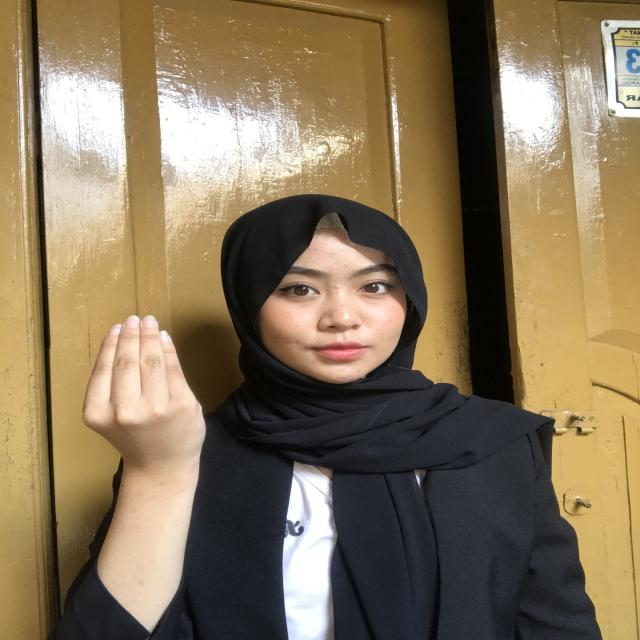kapan: (42, 288, 235, 473)
